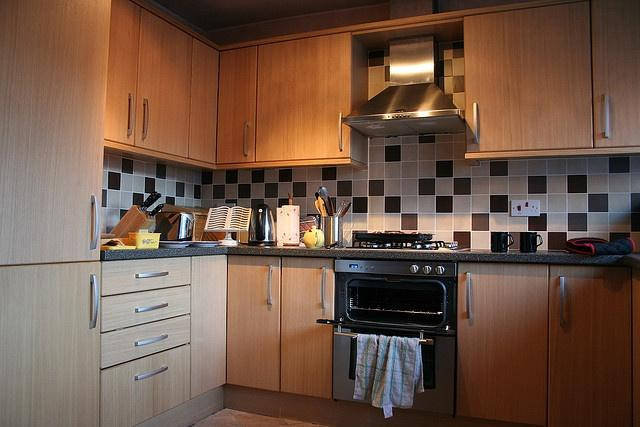Lemari: (0, 0, 110, 425), (101, 0, 352, 171), (462, 0, 639, 161)
